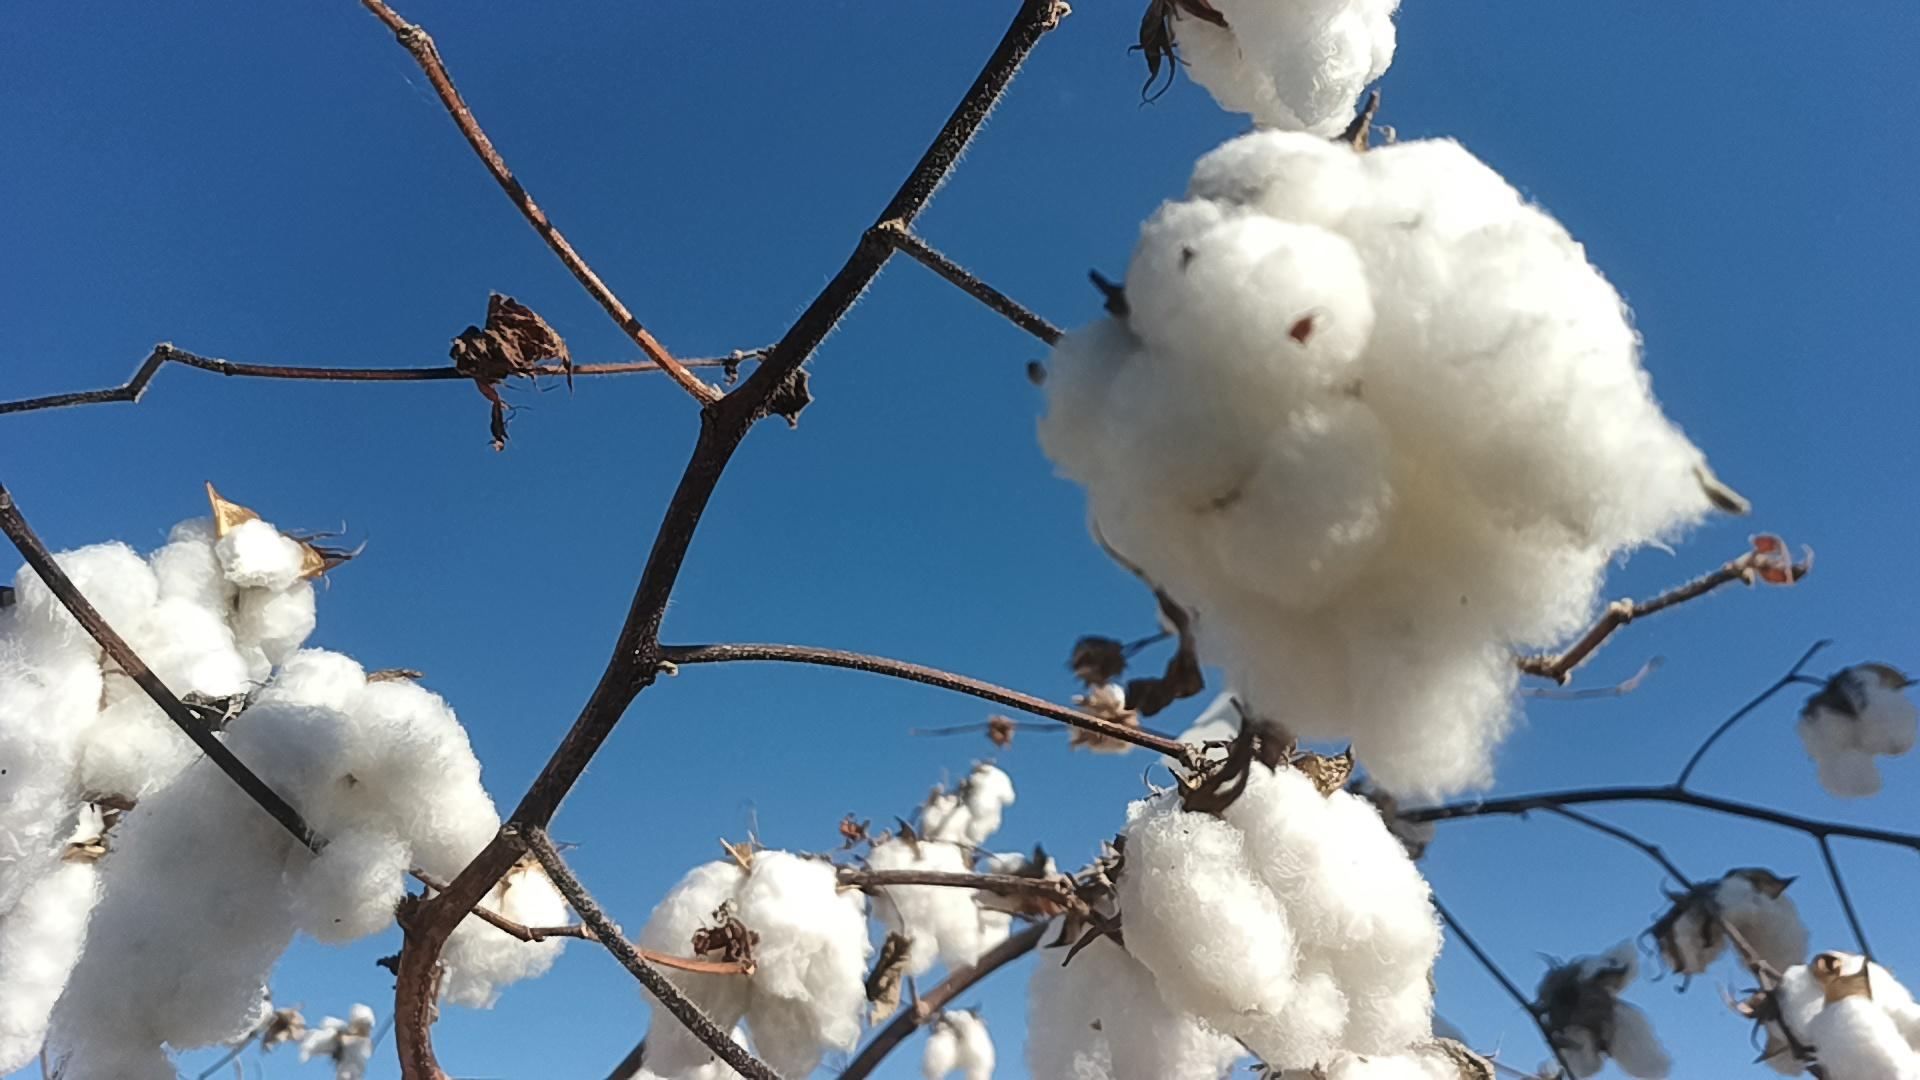cotton_ready: (1030, 133, 1713, 789), (46, 646, 501, 1080), (1114, 766, 1445, 1072), (0, 546, 248, 847), (638, 851, 870, 1080), (1023, 889, 1253, 1080), (0, 803, 116, 1076), (1172, 0, 1400, 136), (146, 526, 320, 684), (434, 862, 566, 1014), (1763, 956, 1920, 1080), (1542, 935, 1673, 1080), (868, 837, 985, 977), (1797, 670, 1917, 799), (1669, 876, 1813, 982), (1263, 1043, 1468, 1080)
